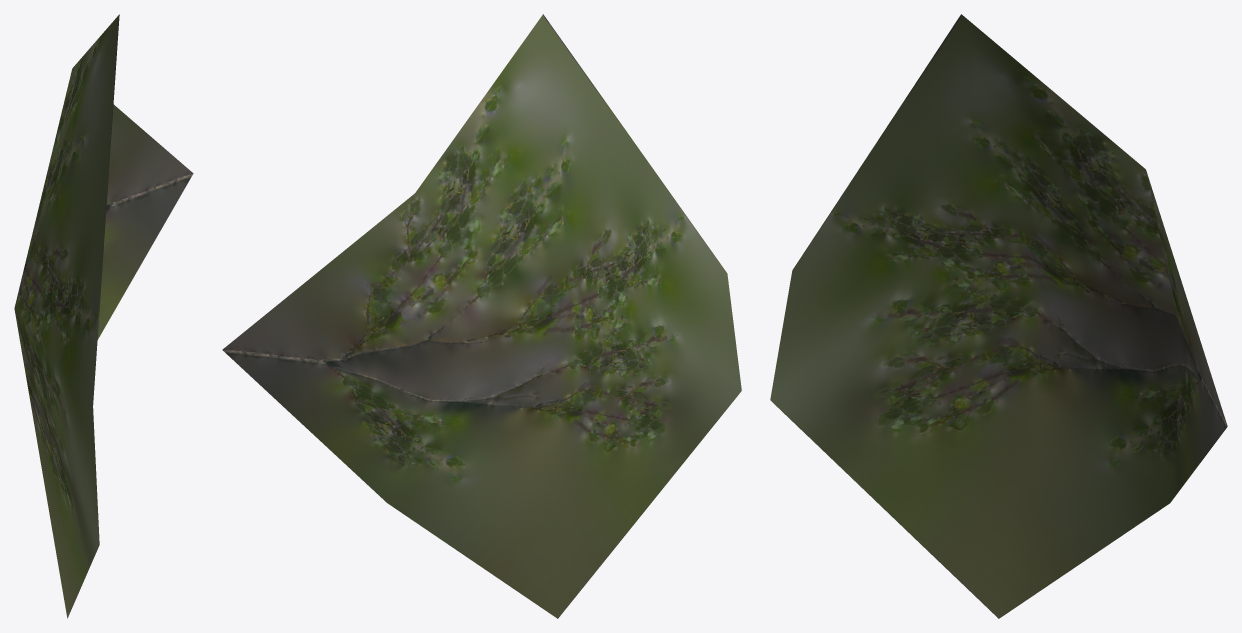
Rendered from silverbirchBranchV1Flipped.fbx.
3 renders of one model, left to right at view 1: azimuth 30°, elevation 25°; view 2: azimuth 150°, elevation 25°; view 3: azimuth 270°, elevation 25°, orthographic. The views are drawn at different scales.
Parts seen in each view (by area): view 1: Polygon; view 2: Polygon; view 3: Polygon.
Part boxes in pixels (x1,y1,x2,y2): Polygon: [14, 14, 193, 618]; Polygon: [222, 14, 741, 618]; Polygon: [770, 14, 1227, 618].
Bounding box in the file's own units: 15.44 × 28.28 × 18.86.
